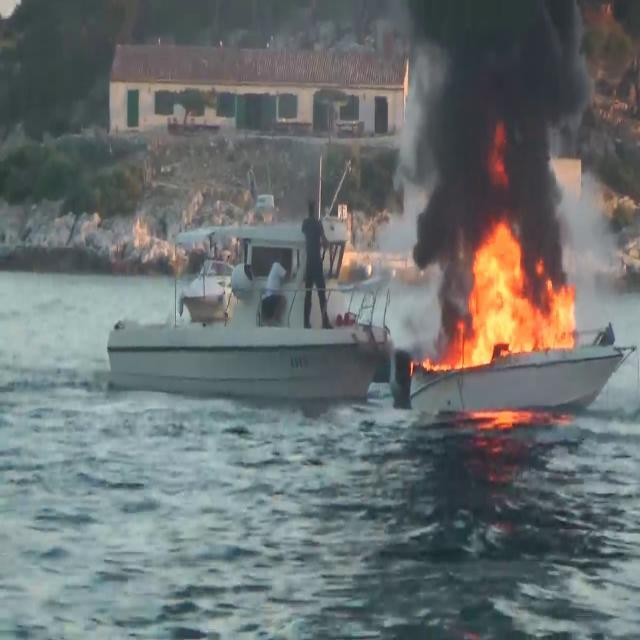Fire: (422, 220, 578, 372)
Smoke: (392, 0, 596, 339)
